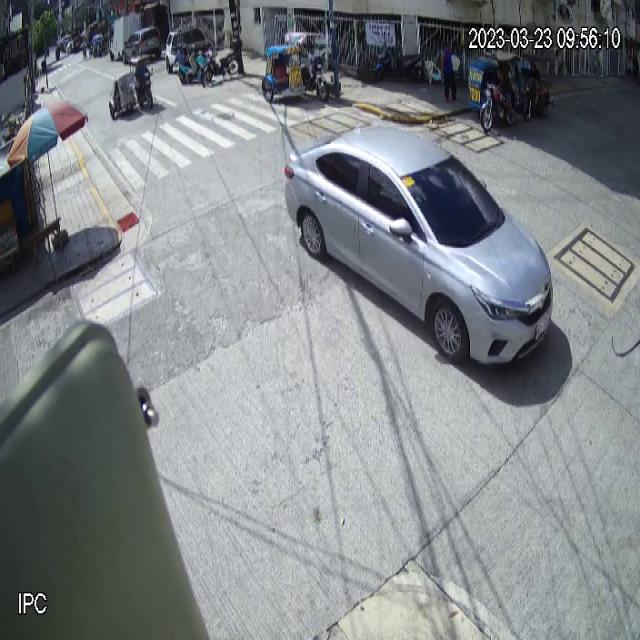Car: (284, 126, 554, 370)
Tricycle: (260, 29, 331, 102)
